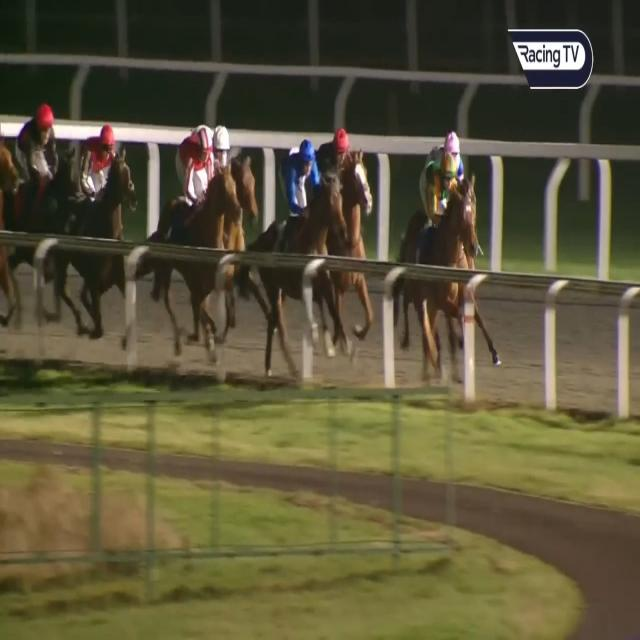horses-racing: (398, 155, 482, 368), (263, 136, 352, 332), (160, 128, 242, 308), (10, 92, 61, 314), (73, 124, 135, 300), (320, 124, 372, 280), (206, 116, 266, 248), (428, 130, 472, 191)
